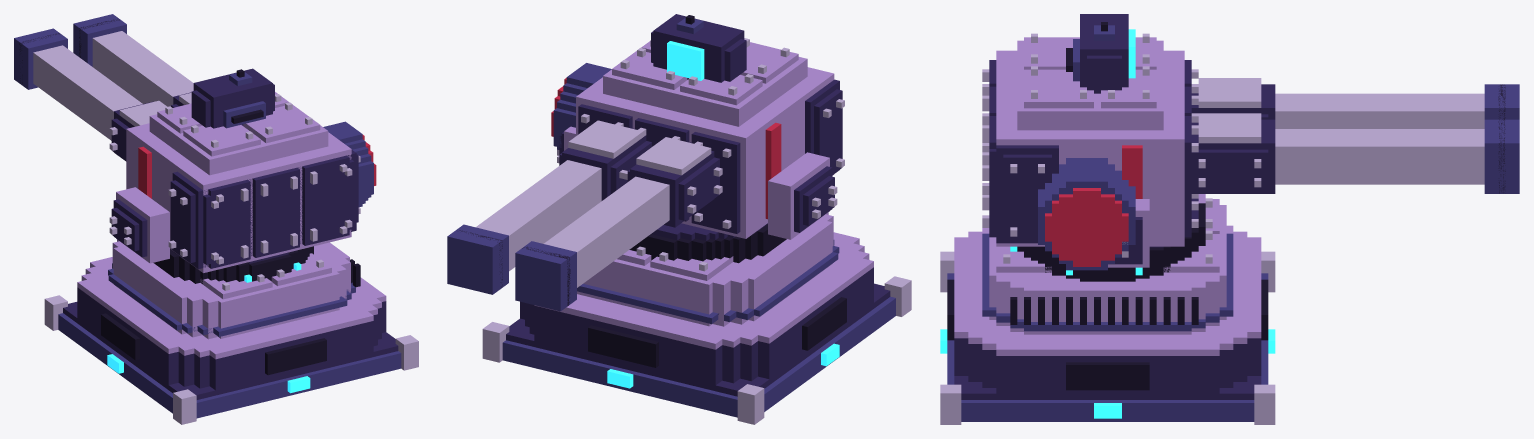
Rendered from autocannon.lg.glb.
3 renders of one model, left to right at view 1: azimuth 30°, elevation 25°; view 2: azimuth 150°, elevation 25°; view 3: azimuth 270°, elevation 25°, orthographic. The views are drawn at different scales.
Visible parts, largest first — view 1: autocannon.lg; view 2: autocannon.lg; view 3: autocannon.lg.
Part boxes in pixels (x1,y1,x2,y2): autocannon.lg: (14, 14, 418, 424); autocannon.lg: (447, 14, 911, 424); autocannon.lg: (940, 14, 1519, 424).
Bounding box in the file's own units: 3 × 3.31 × 5.19.
